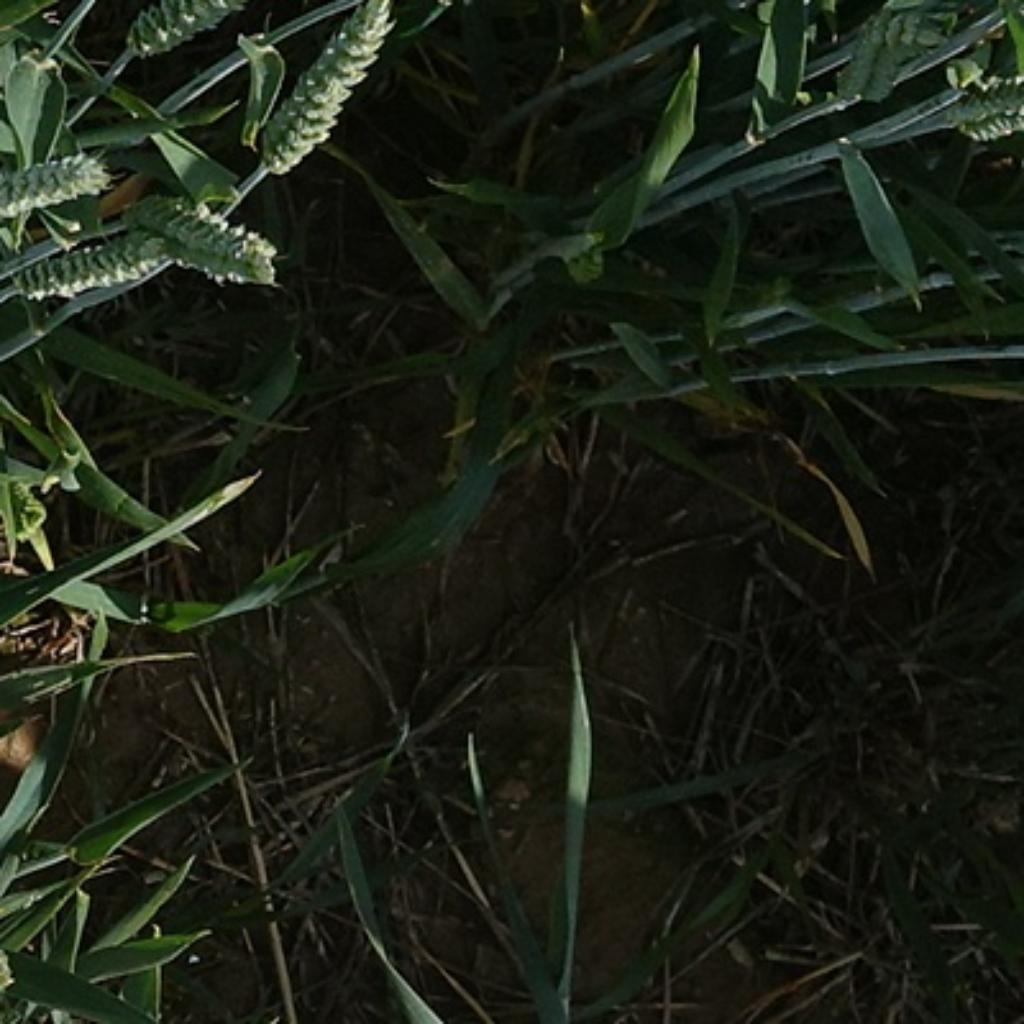0-0: (261, 2, 394, 181), (94, 184, 294, 289), (10, 227, 194, 299), (829, 0, 940, 108), (0, 135, 115, 230), (113, 1, 237, 52), (947, 69, 1024, 143), (46, 1021, 163, 1024)
